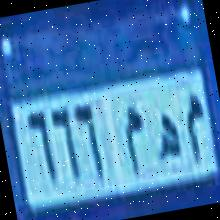6: (48, 98, 84, 186), (25, 105, 60, 189), (72, 99, 106, 185)
haa: (144, 102, 185, 172)
meem: (114, 96, 153, 182), (178, 83, 214, 172)
